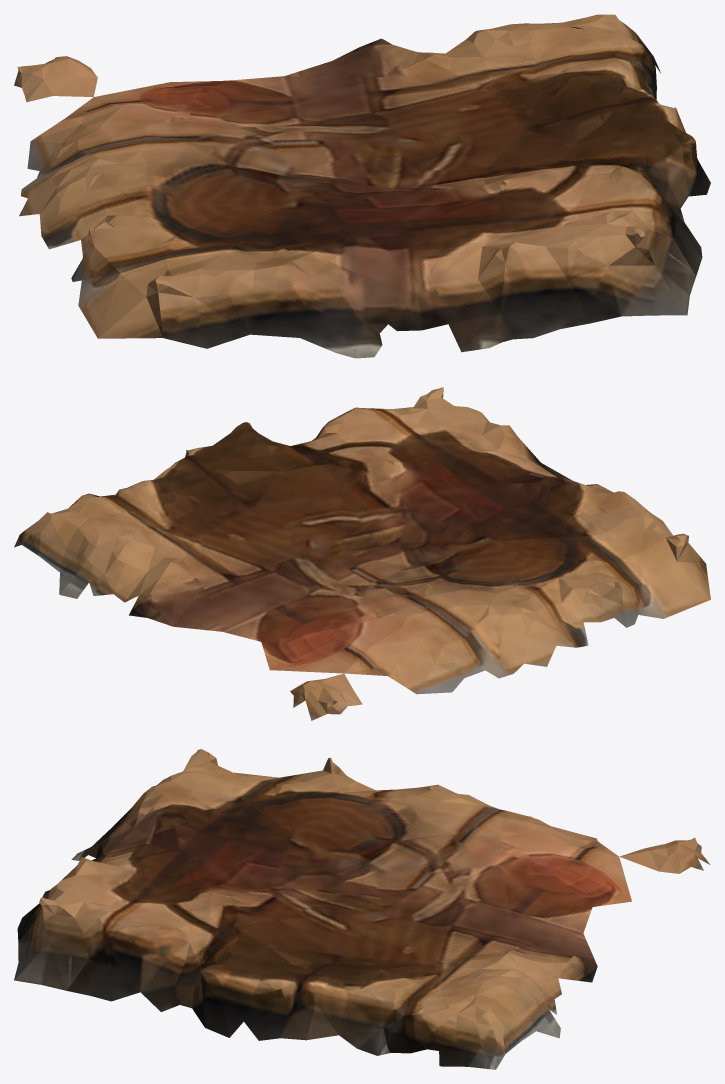
Rendered from salvage_raft_photogrammetry_scan.web-pbr.glb.
3 views of the same model, one above another, from view 1: azimuth 30°, elevation 25°; view 2: azimuth 150°, elevation 25°; view 3: azimuth 270°, elevation 25° (orthographic). The views are drawn at different scales.
Visible parts, largest first — view 1: texturedMesh; view 2: texturedMesh; view 3: texturedMesh.
Part boxes in pixels (left/top/right/bottom): texturedMesh: left=14, top=14, right=710, bottom=358; texturedMesh: left=14, top=387, right=710, bottom=720; texturedMesh: left=14, top=749, right=710, bottom=1069.
Bounding box in the file's own units: 2.4 × 0.2596 × 2.39.
Materials: 1 (1 with a texture image).
